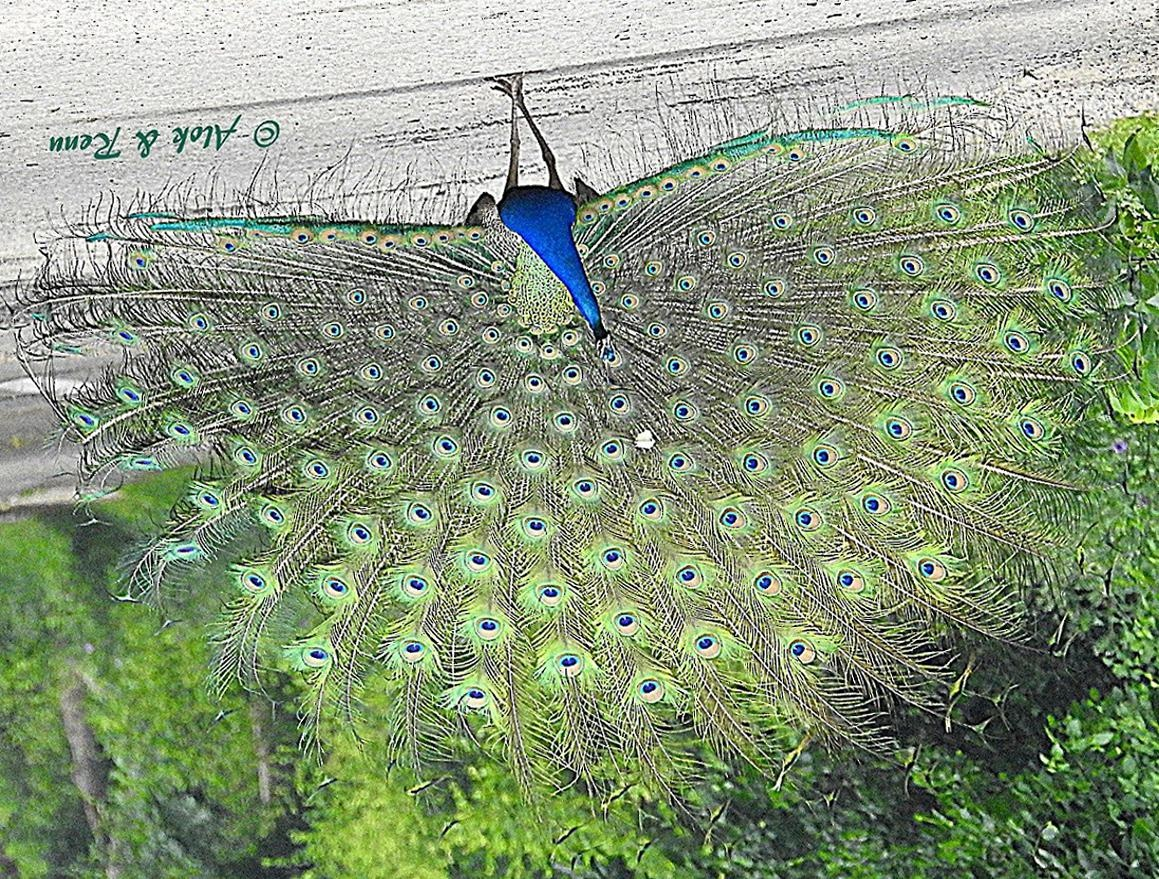peacock: (53, 61, 1133, 785)
